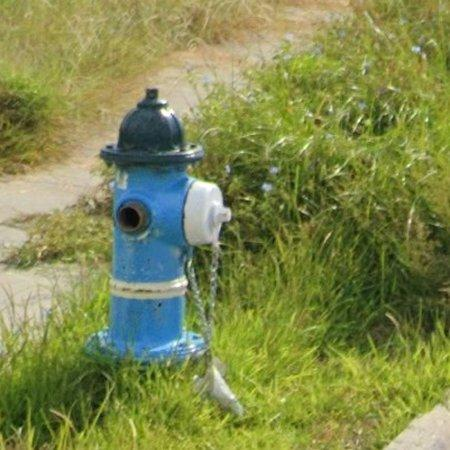a fire hydrant: (86, 88, 232, 363)
